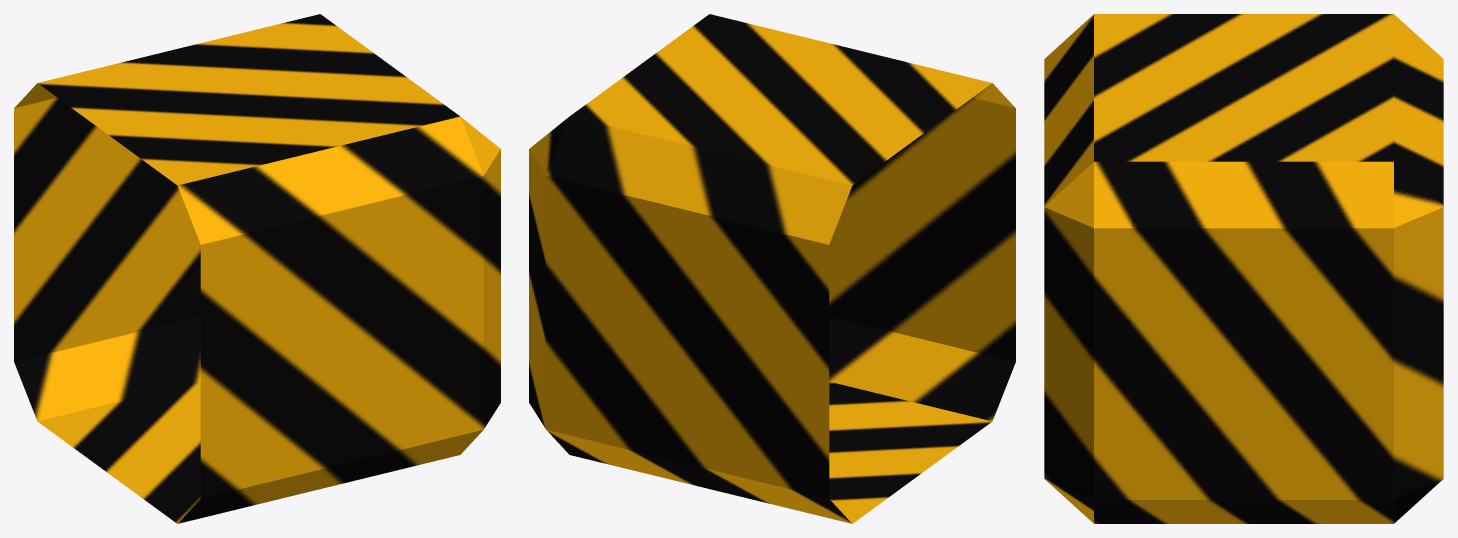
Rendered from Bevel_4.fbx.
3 renders of one model, left to right at view 1: azimuth 30°, elevation 25°; view 2: azimuth 150°, elevation 25°; view 3: azimuth 270°, elevation 25°, orthographic. The views are drawn at different scales.
Visible parts, largest first — view 1: Bevel_4; view 2: Bevel_4; view 3: Bevel_4.
Boxes of the visible parts, bbox=[...] form: Bevel_4: bbox=[14, 14, 500, 523]; Bevel_4: bbox=[529, 14, 1015, 523]; Bevel_4: bbox=[1044, 14, 1443, 523].
Bounding box in the file's own units: 10000 × 10000 × 10000.
